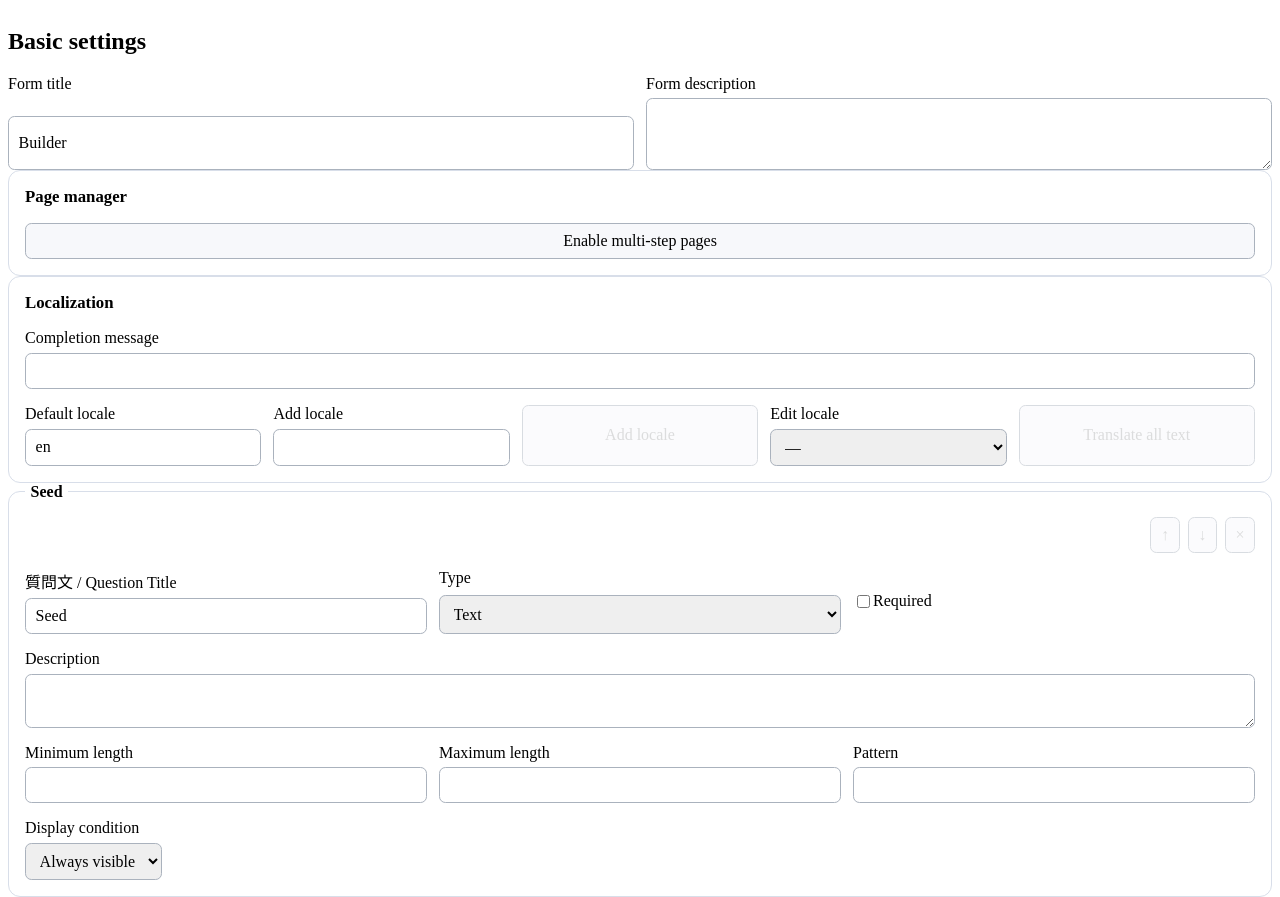
Test: FormBuilder v2.1.1 › defaults automatic translation to missing-only
Select "ja" in the dropdown labelled "Edit locale": coordinates (888, 447) [770,429,1007,466]
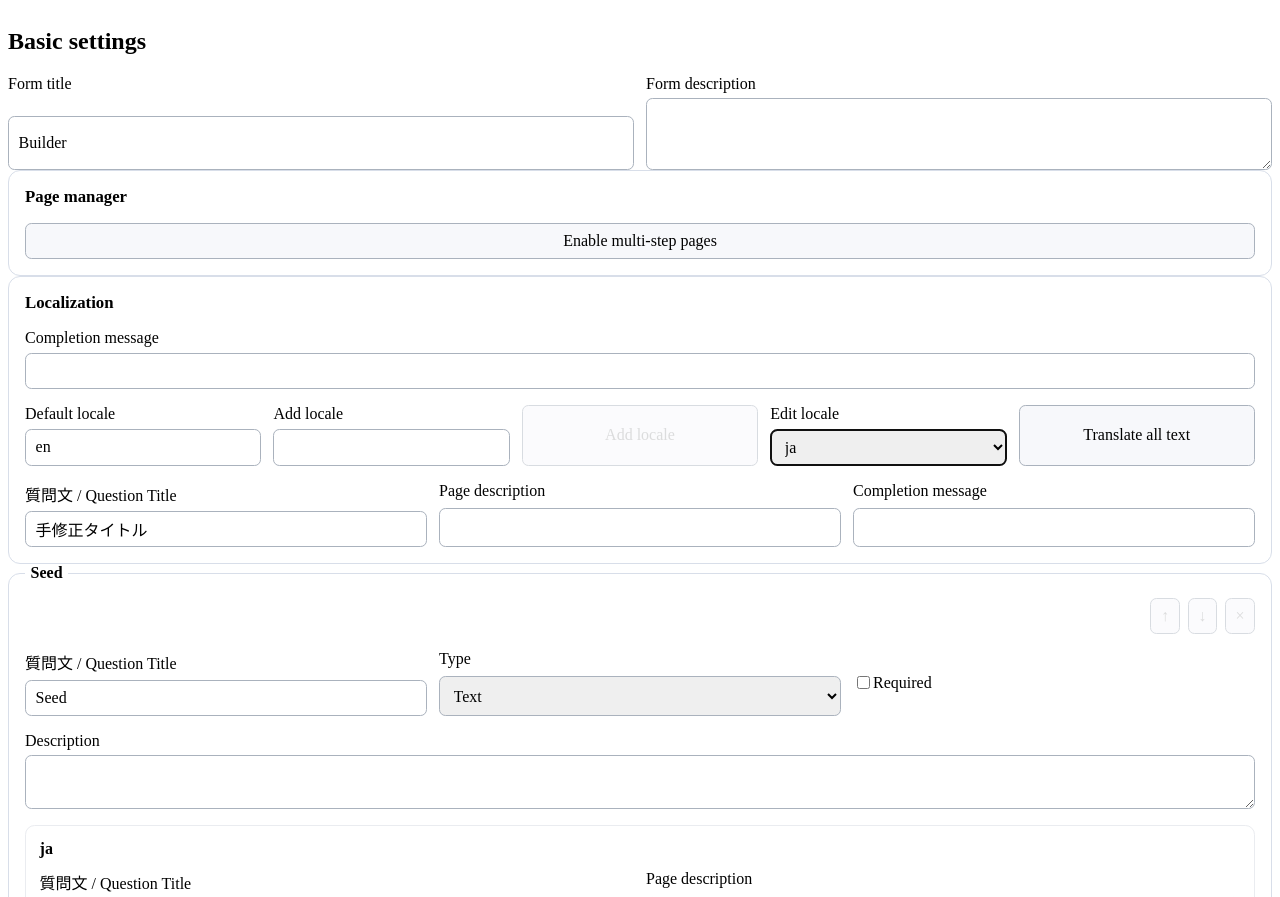
Click the button "Translate all text": coordinates (1137, 435) [1019,405,1255,466]
(page scrolled)
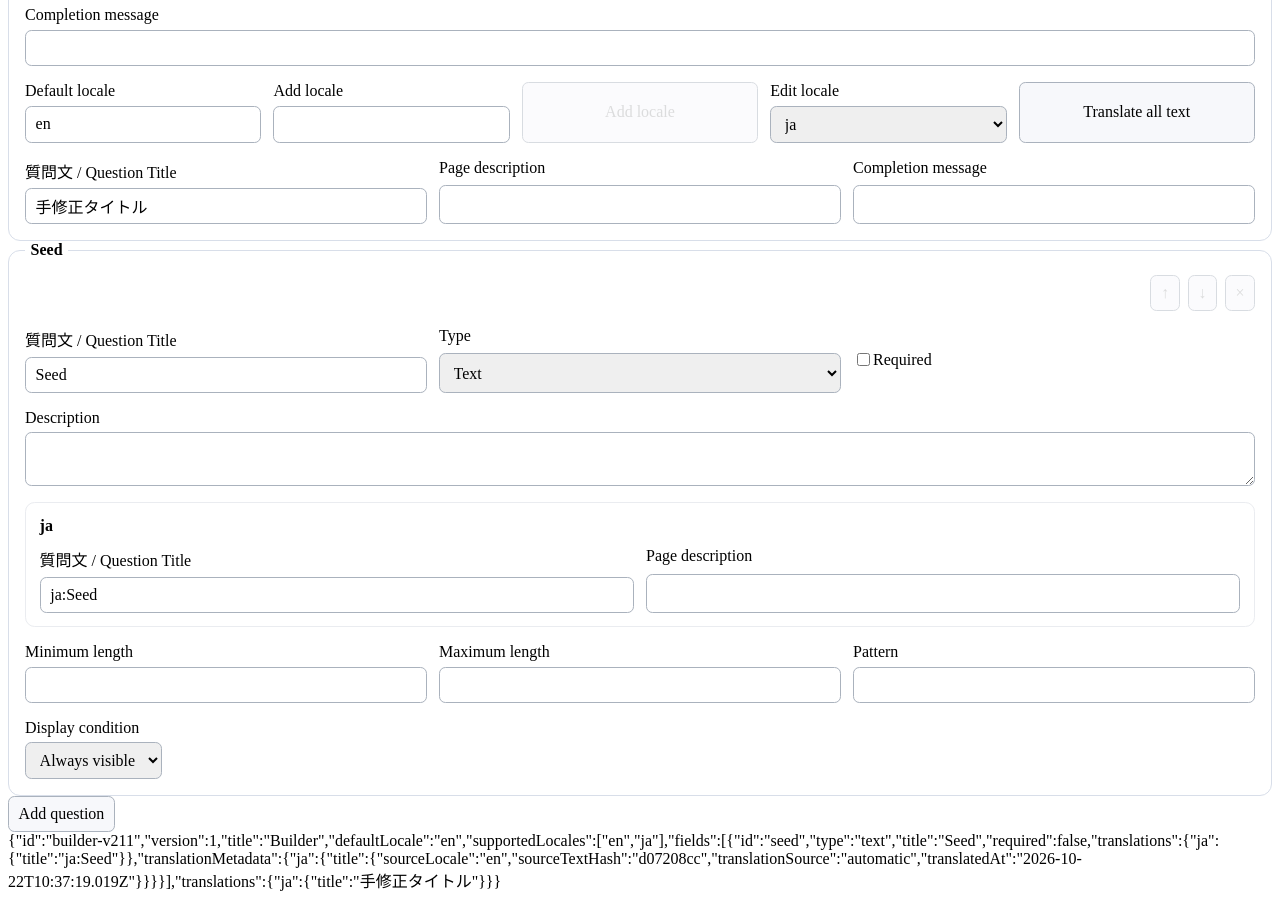
Check: the text with test id "schema-state" shows "手修正タイトル", box [8,832,1219,890]
Check: the text with test id "schema-state" shows "ja:Seed", box [8,832,1219,890]
